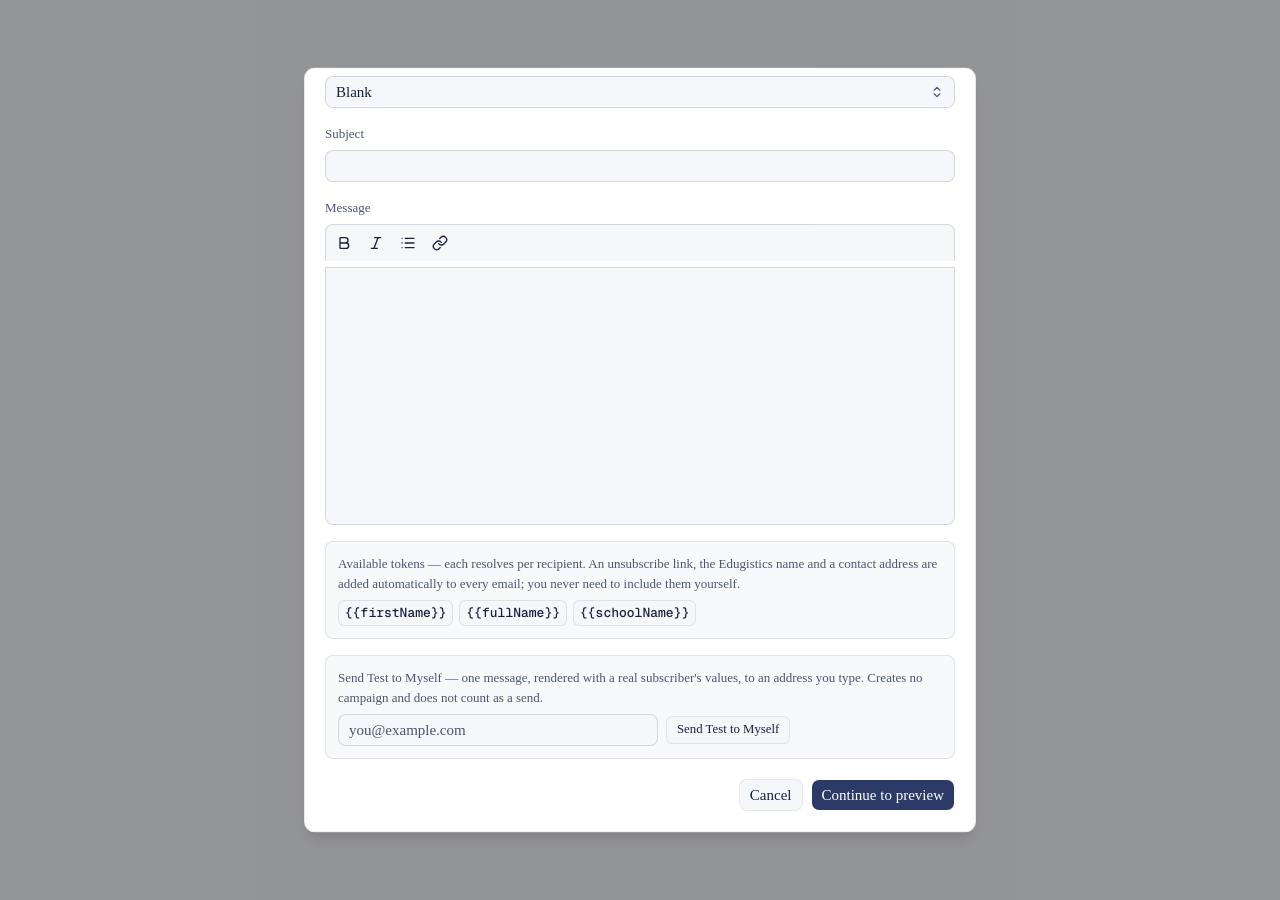
Test case: SubscribersEmailComposer — Send Test to Myself › reaches an error state after a failed test send (a handled { success: false } result), and the button is usable again
(page scrolled)
Type "admin@example.com" into the field with placeholder "you@example.com" at (498, 730), box [338,714,658,746]
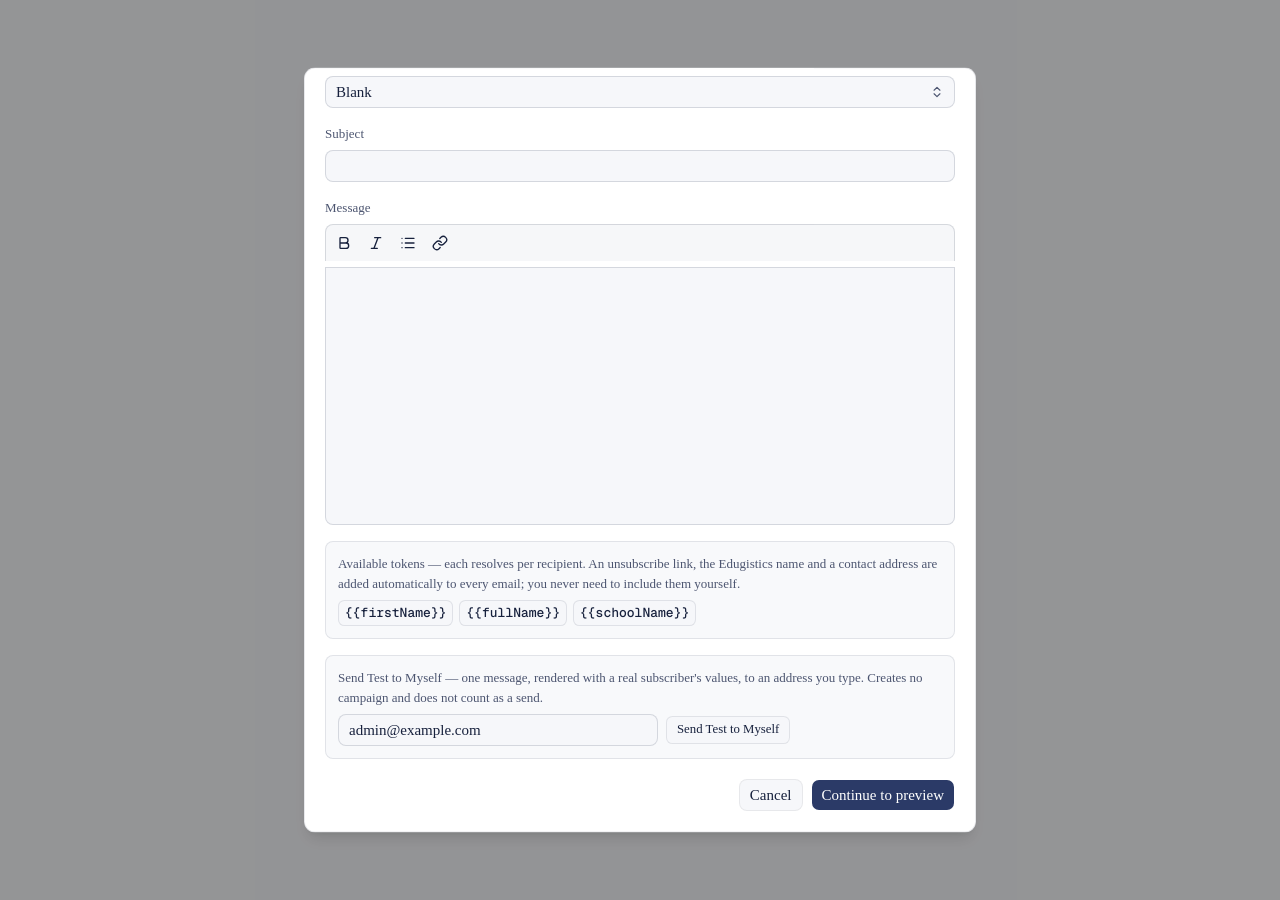
Click the button "Send Test to Myself" at (728, 730), box [666,716,790,744]
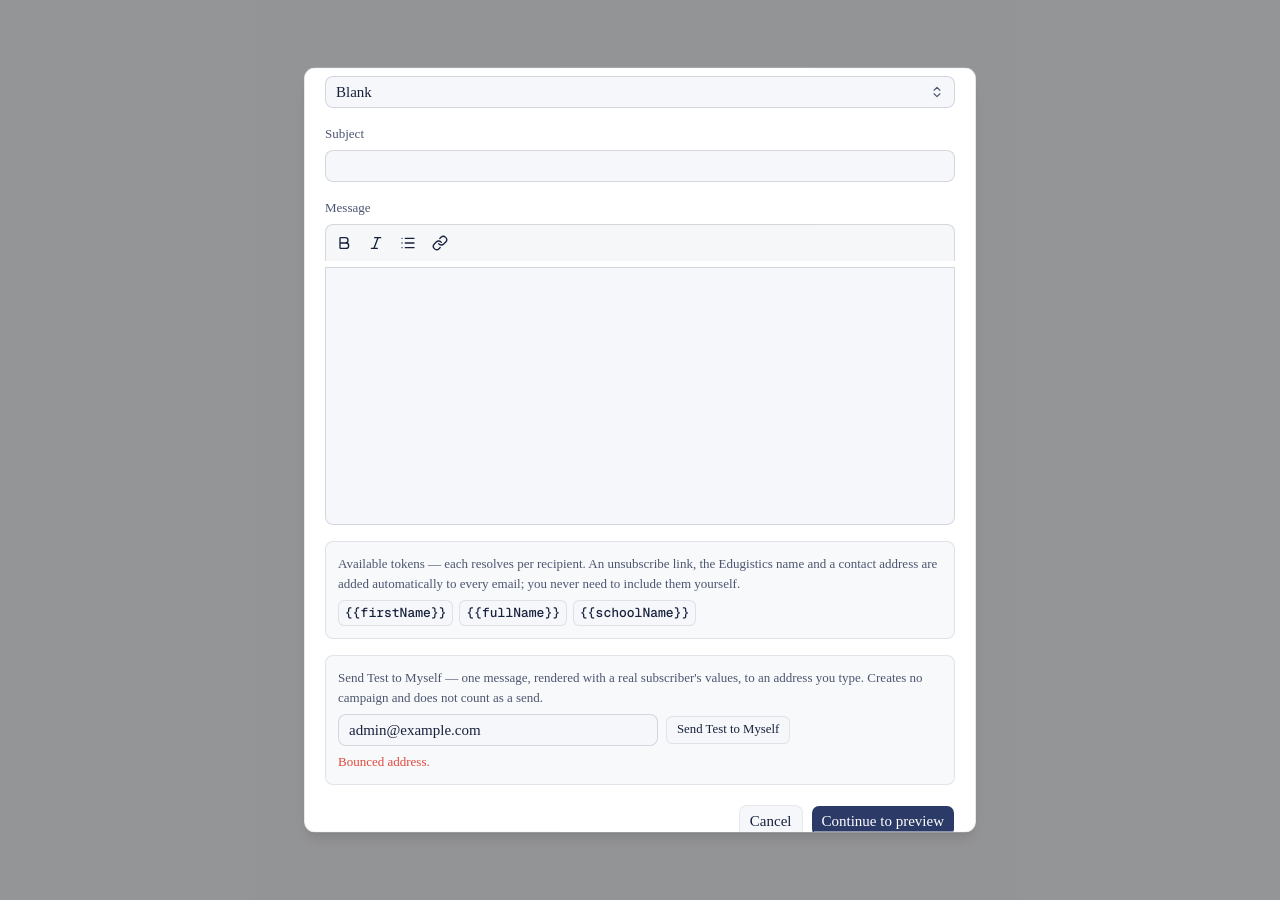
Expected: the text "Bounced address." is shown, [338,754,430,770]
Click the button "Send Test to Myself" at (728, 730), box [666,716,790,744]
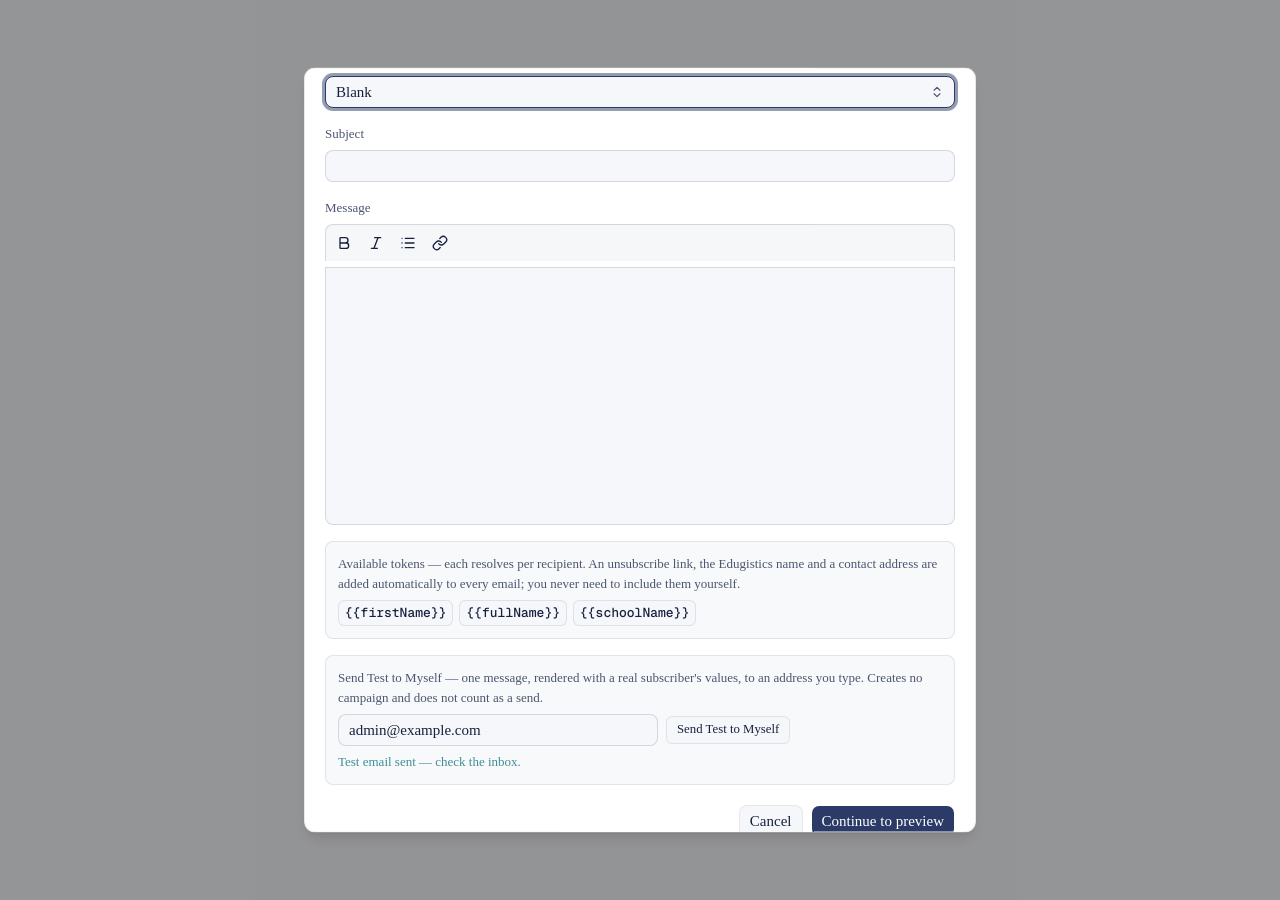
Expected: the text "Test email sent — check the inbox." is shown, [338,754,521,770]
